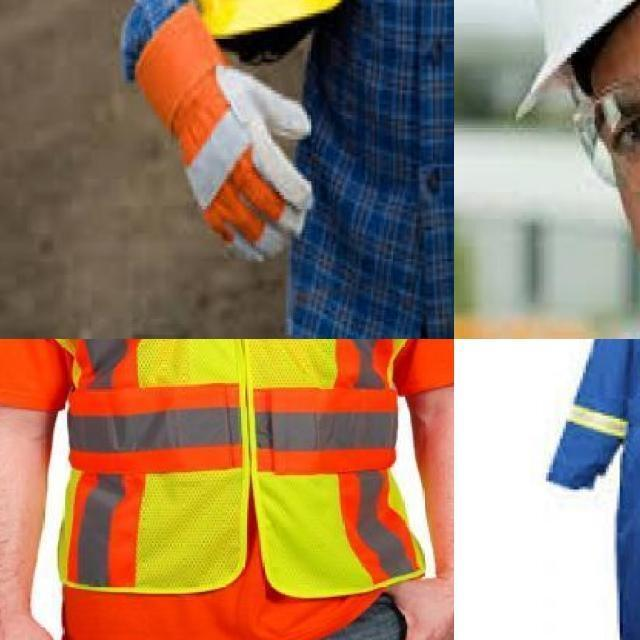apron: (132, 11, 308, 276)
